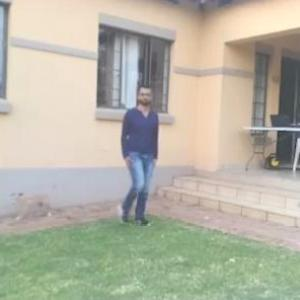follow: (113, 86, 158, 224)
